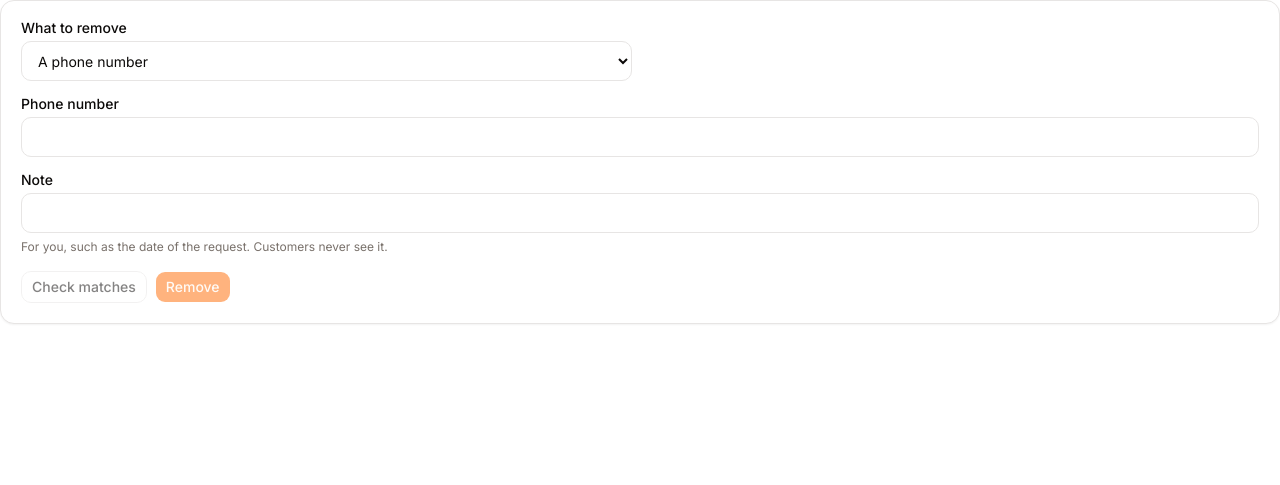
it: RemovalForm › says when the value is already on the list
Step 1. Type "(480) 555-0142" into the field labelled "Phone number" → (640, 137), box [21,117,1259,157]
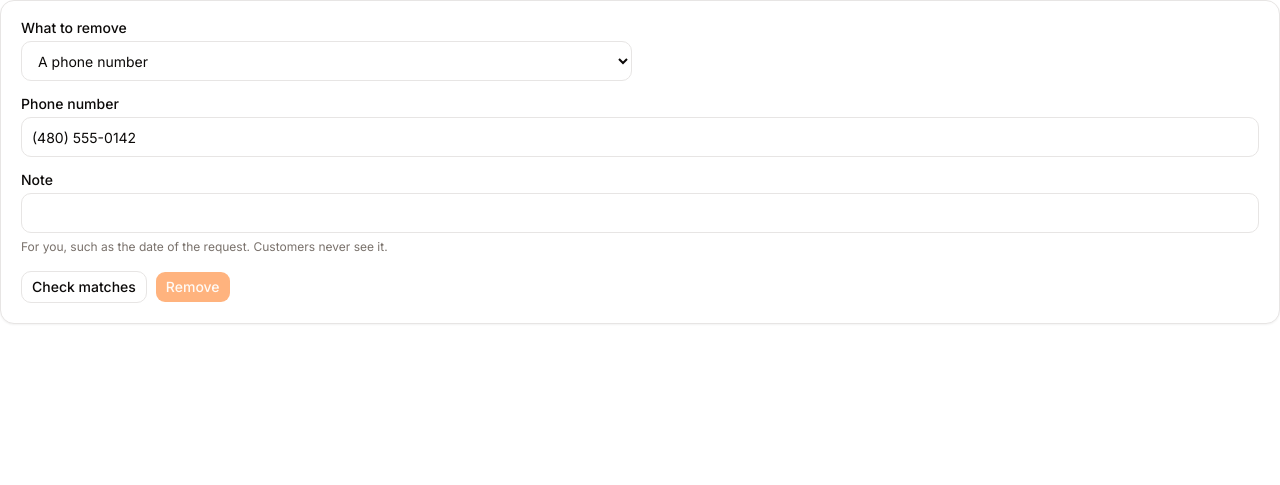
Step 2. Click the button "Check matches" → (84, 287), box [21,271,147,303]
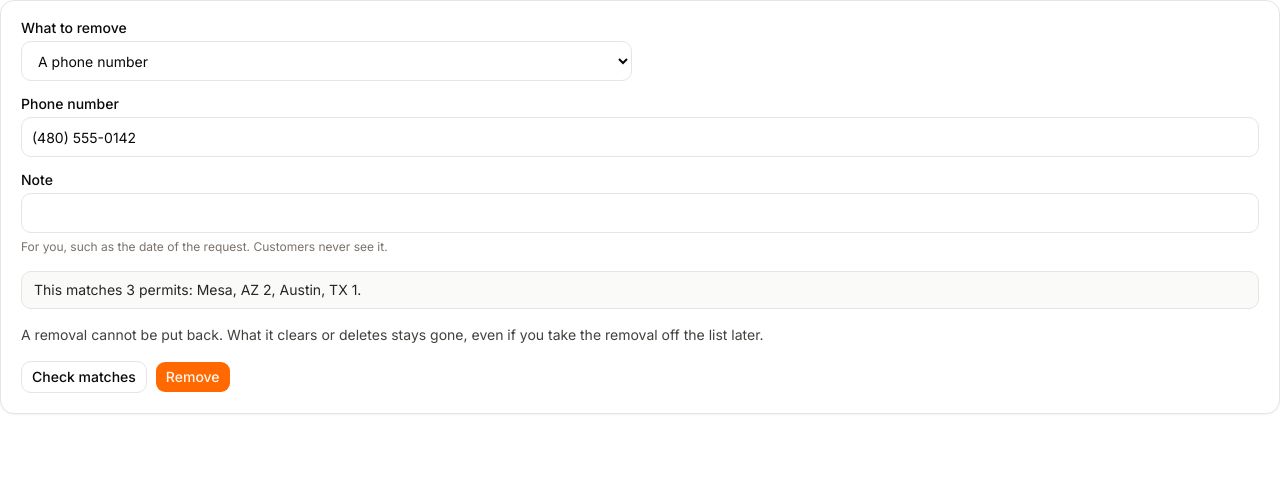
Expected: the text "This matches 3 permits: Mesa, AZ 2, Austin, TX 1." is shown, [21,271,1259,309]
Step 3. Click the button "Remove" → (193, 377), box [155,361,230,393]
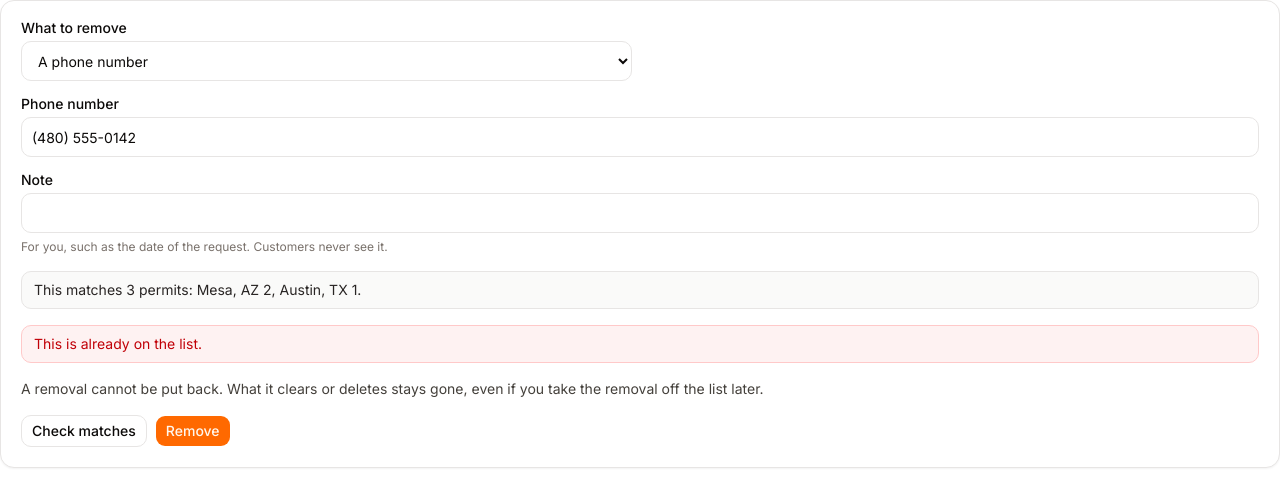
Expected: the message "This is already on the list." is shown, [21,325,1259,363]
